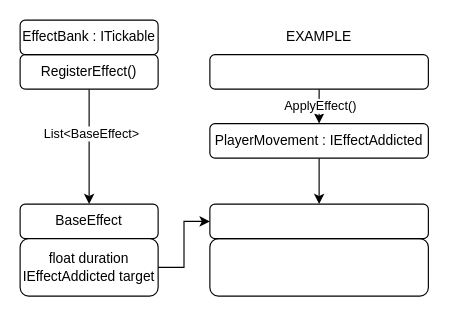
This 449x316 diagram has some shape labels left out. Each missing label, with the centre of its shape:
"ApplyEffect(BaseEffect effect) DisposeEffect(BaseEffect effect)" belongs at (x=318, y=266).
"IEffectAddicted" belongs at (x=318, y=221).
"StunEffect : BaseEffect" belongs at (x=318, y=71).
